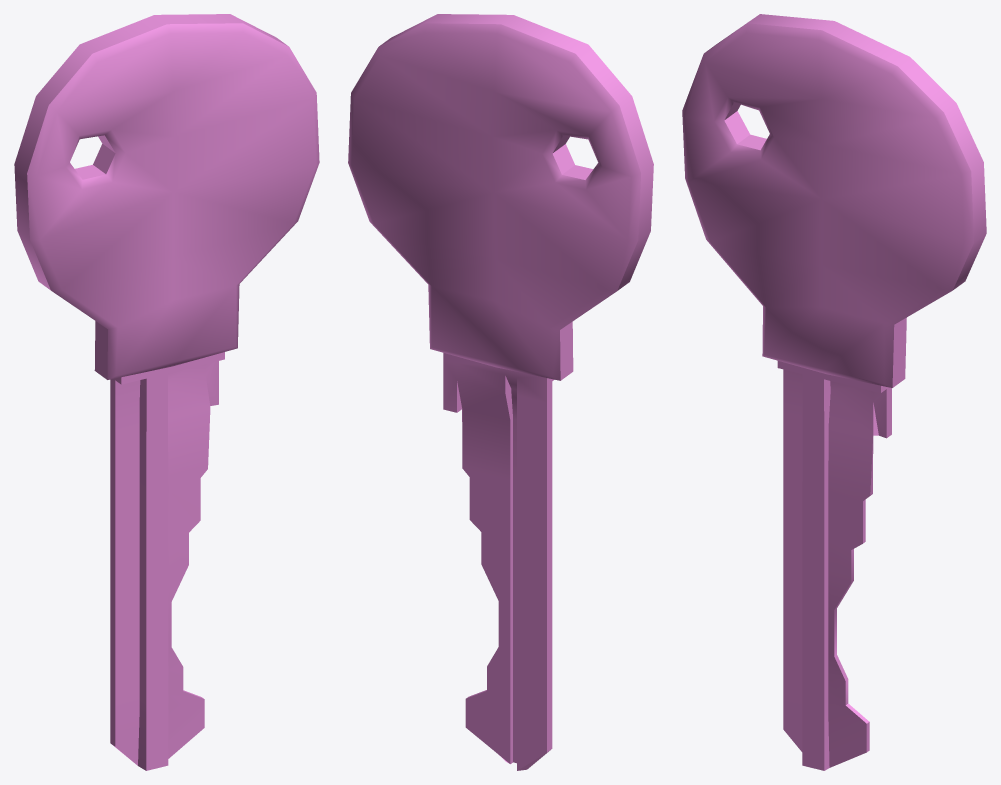
The model's file is Keys_30.FBX.
3 views of the same model, side by side, from view 1: azimuth 30°, elevation 25°; view 2: azimuth 150°, elevation 25°; view 3: azimuth 330°, elevation 25° (orthographic).
Parts seen in each view (by area): view 1: Keys_30; view 2: Keys_30; view 3: Keys_30.
Boxes of the visible parts, box(x1,y1,x2,y2) form: Keys_30: box(14, 14, 319, 770); Keys_30: box(348, 14, 653, 770); Keys_30: box(682, 14, 986, 770).
Size of the model in its own units: 1.02 by 2.48 by 0.1158.
